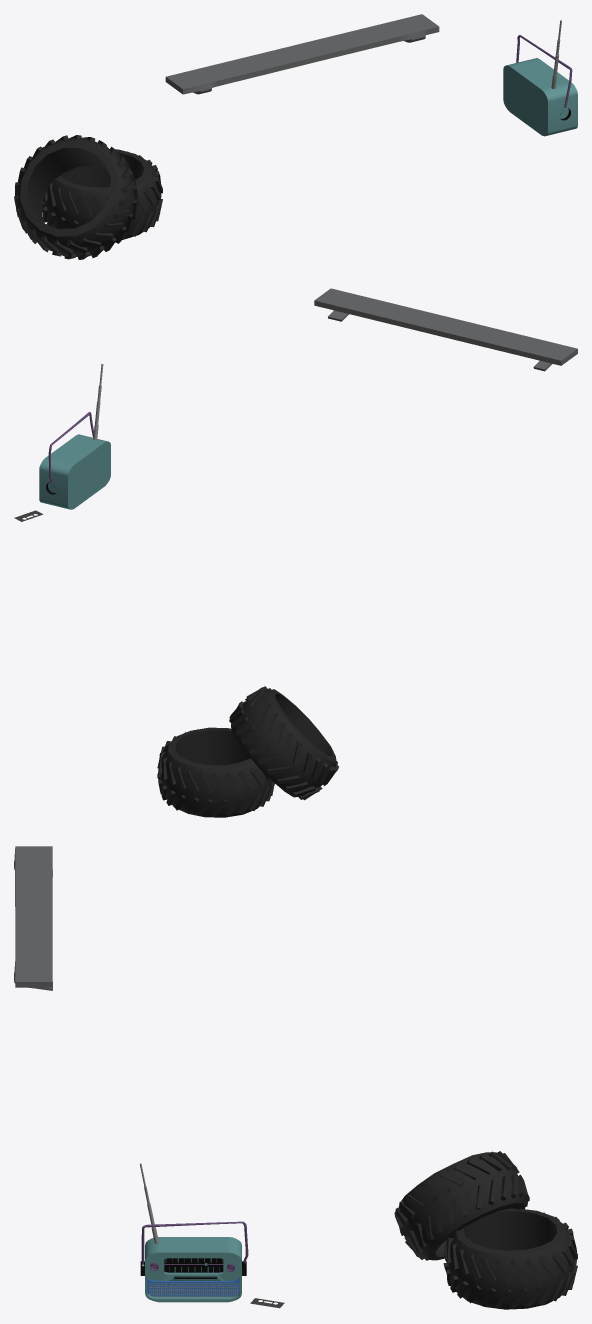
File: compressed_Decors_6.glb
3 views of the same model, one above another, from view 1: azimuth 30°, elevation 25°; view 2: azimuth 150°, elevation 25°; view 3: azimuth 270°, elevation 25° (orthographic). The views are drawn at different scales.
Visible parts, largest first — view 1: Debris_Tires, AChelf, radio; view 2: Debris_Tires, AChelf, radio; view 3: Debris_Tires, radio, AChelf.
Part boxes in pixels (x1,y1,x2,y2): Debris_Tires: (14,135,162,259); AChelf: (165,14,439,94); radio: (503,20,577,136); Debris_Tires: (157,686,338,817); AChelf: (314,288,577,371); radio: (39,364,110,509); Debris_Tires: (394,1151,577,1309); radio: (139,1163,248,1302); AChelf: (14,846,52,990).
Size of the model in its own units: 7.78 by 5.4 by 7.56.
